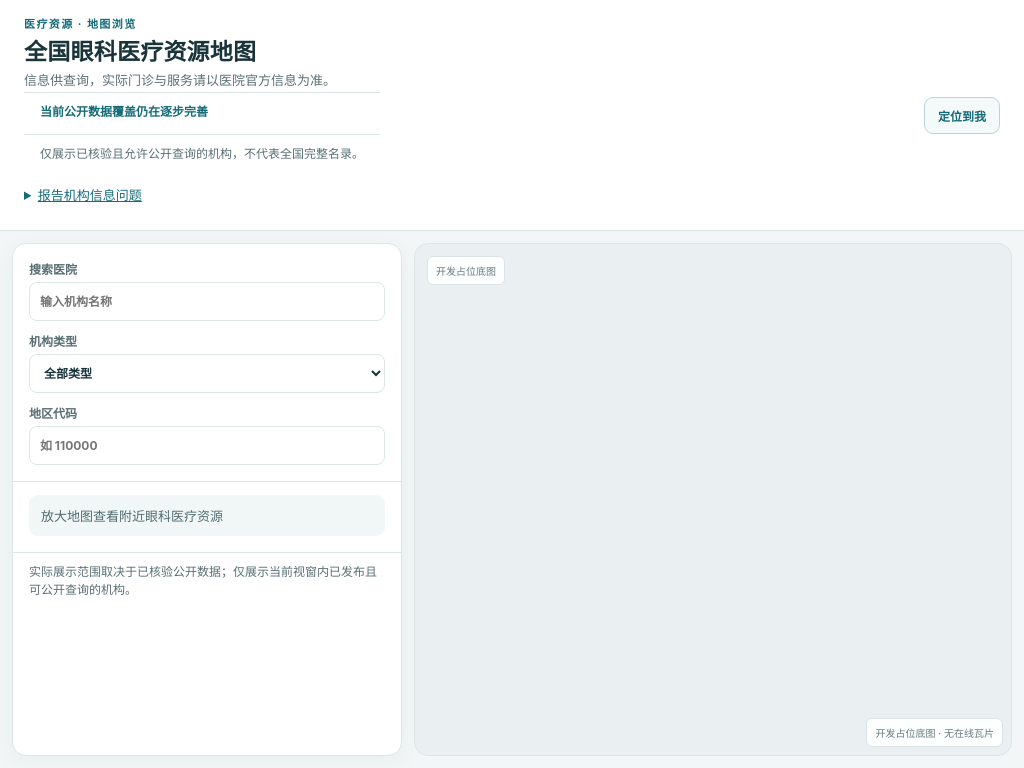
Test: EyeHospitalsClient › shows the unavailable state and leaves manual browsing available
This screenshot has width=1024, height=768.
Click the button "定位到我" at (962, 116), box left=924, top=97, right=1000, bottom=134
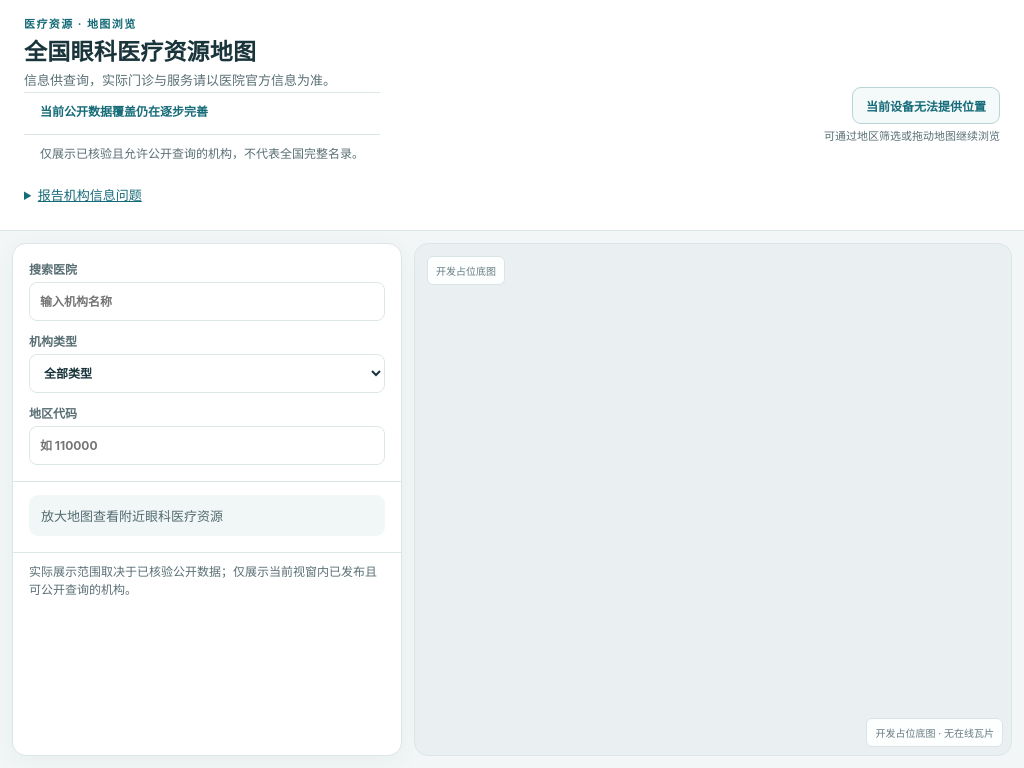
Check: the button "当前设备无法提供位置" is shown, box left=852, top=86, right=1000, bottom=124
Check: the text "可通过地区筛选或拖动地图继续浏览" is shown, box left=824, top=128, right=1000, bottom=144
